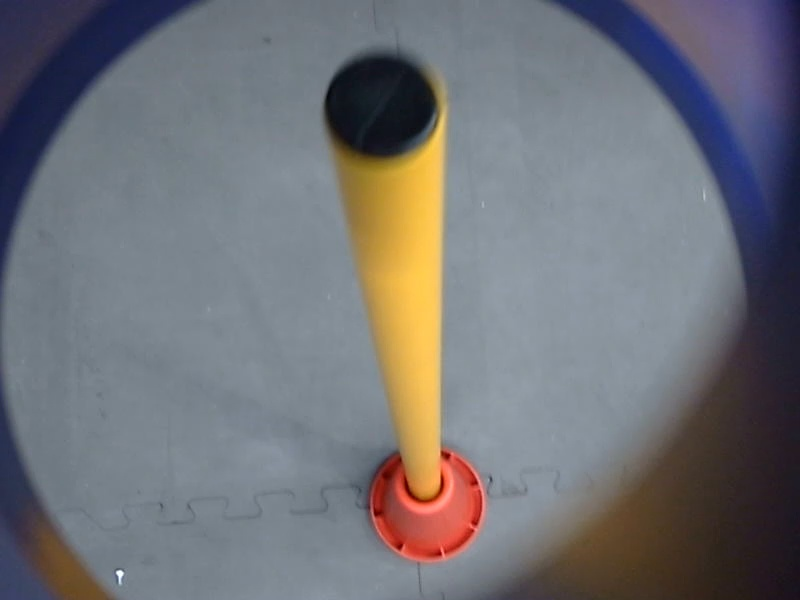tip: (312, 41, 454, 174)
